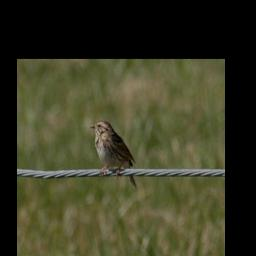Sparrow: (87, 118, 137, 189)
